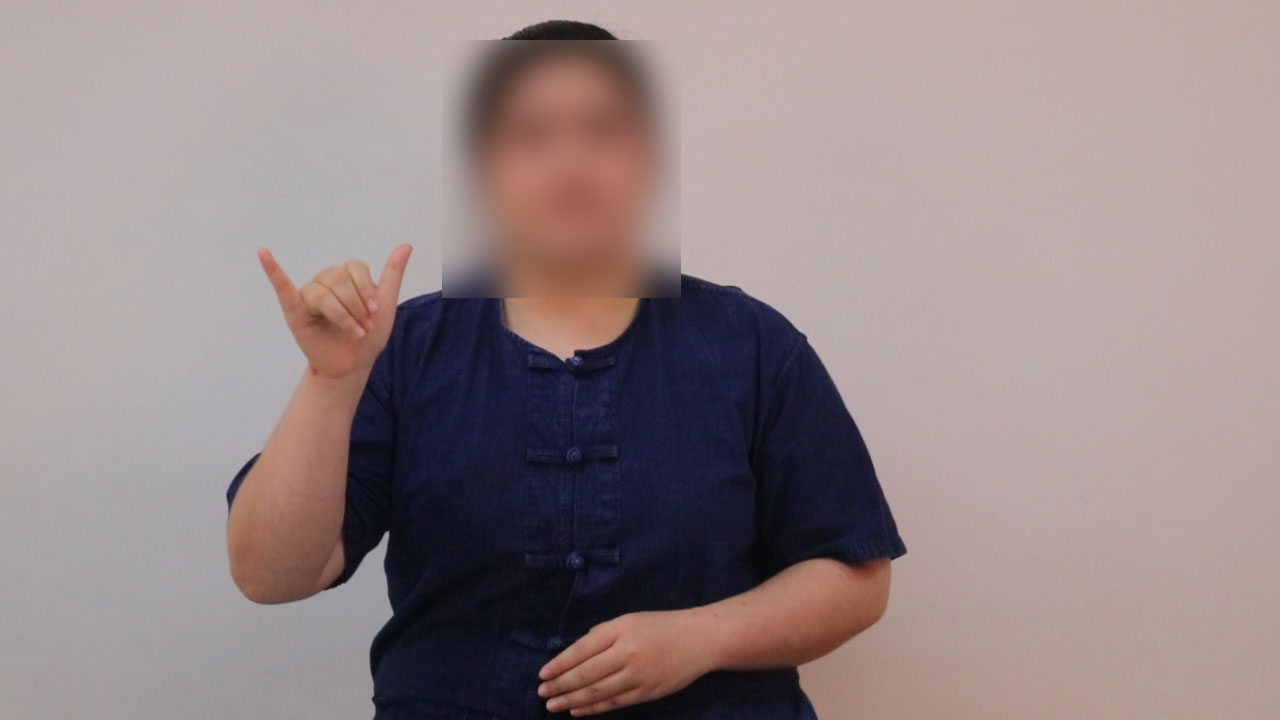yor: (251, 237, 422, 377)
